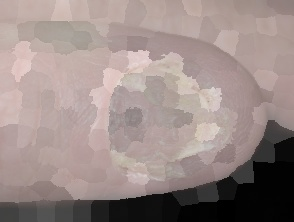Nail_psoriasis: (97, 54, 237, 188)
